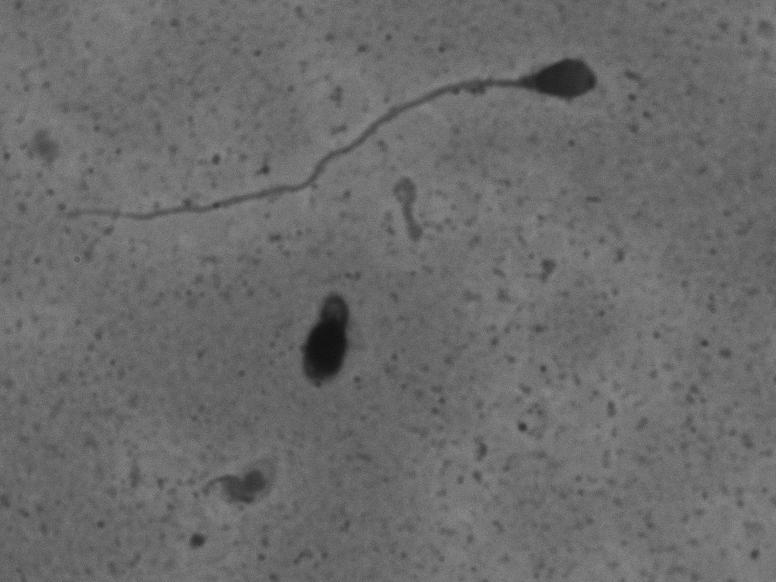Normal: (39, 52, 659, 240)
